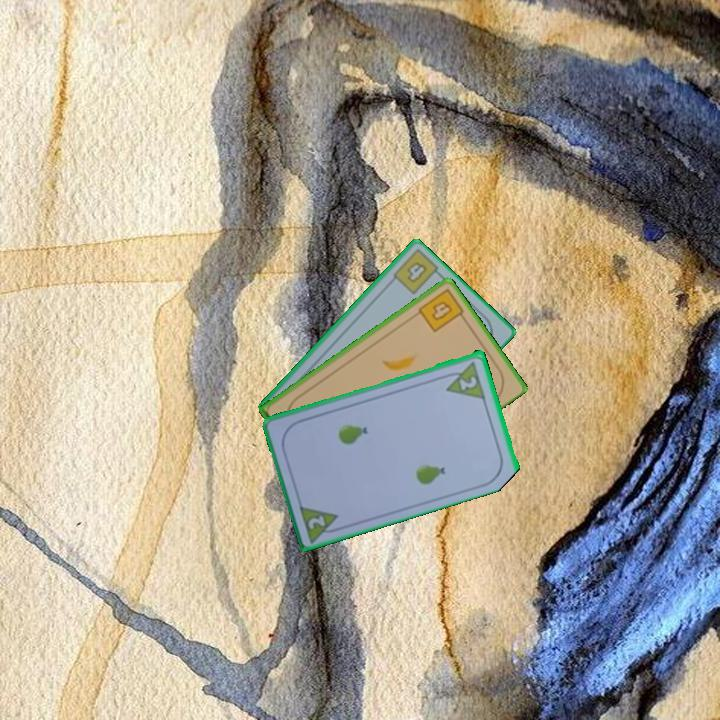2p: (295, 500, 346, 544), (456, 372, 480, 393)
4b: (414, 285, 469, 335), (403, 258, 430, 285)
